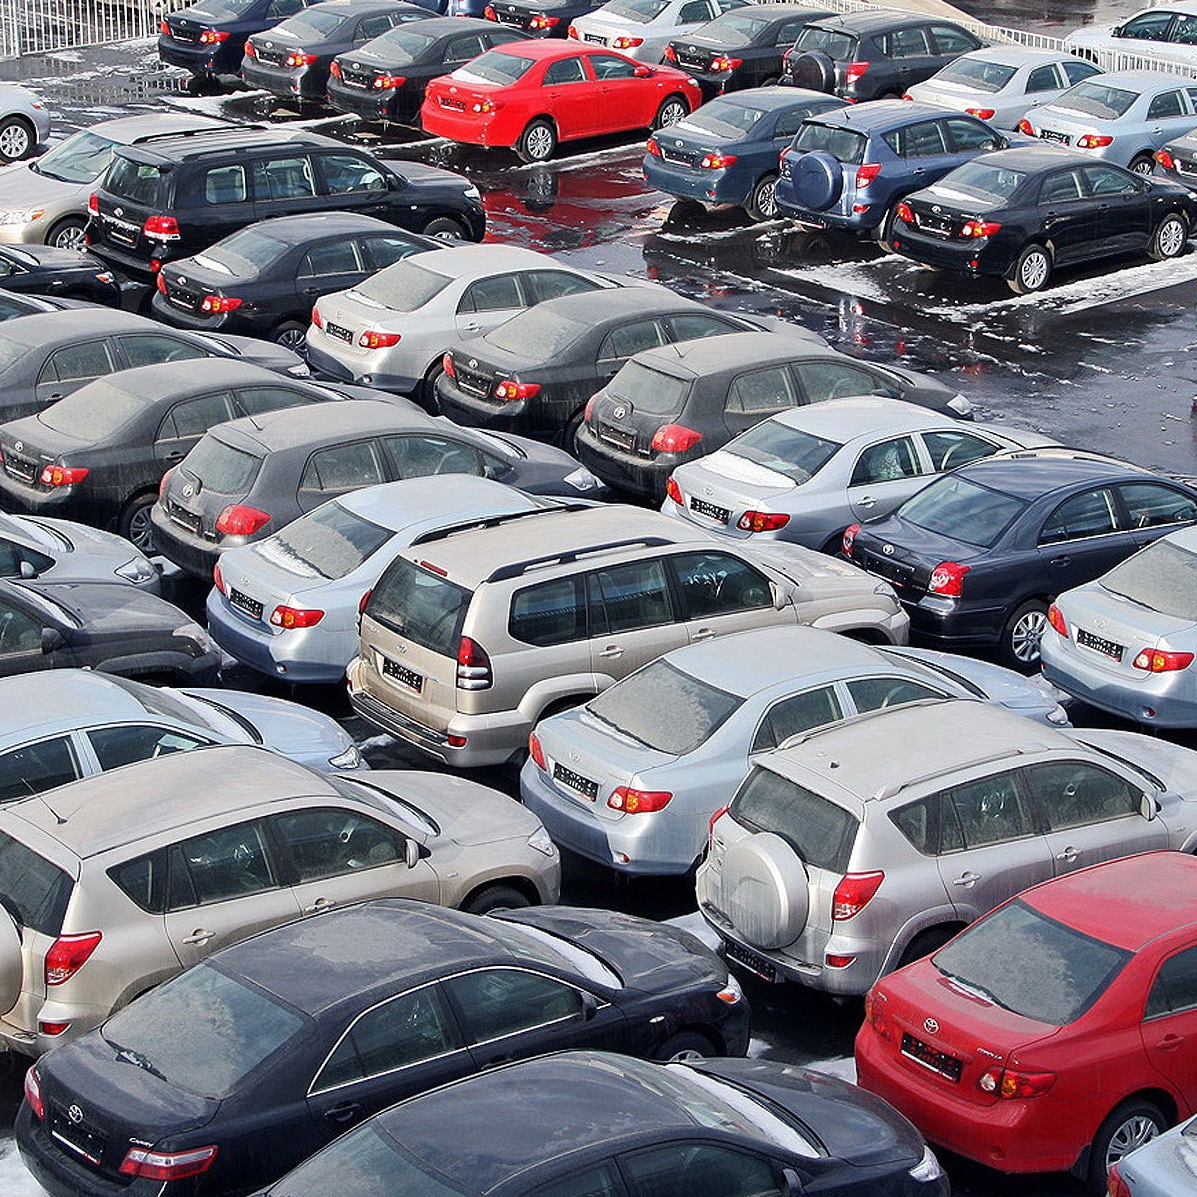Car: (15, 899, 751, 1197), (0, 745, 562, 1057), (693, 697, 1197, 1026), (347, 505, 908, 771), (520, 628, 1075, 879), (855, 852, 1197, 1197), (246, 1051, 950, 1197), (206, 475, 609, 685), (0, 360, 426, 554), (151, 400, 606, 579), (843, 451, 1197, 672), (570, 333, 974, 498), (433, 286, 833, 449), (659, 397, 1067, 555), (306, 242, 674, 412), (86, 129, 486, 281), (0, 670, 367, 810), (151, 212, 481, 354), (889, 146, 1197, 295), (776, 99, 1051, 248), (0, 308, 309, 424), (421, 38, 702, 164), (0, 112, 254, 250), (1040, 525, 1197, 733), (643, 87, 856, 223), (326, 16, 539, 128), (0, 580, 223, 686), (240, 0, 447, 104), (783, 10, 1014, 102), (1019, 69, 1197, 176), (902, 46, 1108, 132), (663, 5, 834, 98), (156, 0, 327, 81), (0, 511, 161, 594), (568, 0, 762, 62), (1062, 0, 1197, 81), (0, 246, 122, 308), (1105, 1116, 1197, 1197), (485, 0, 609, 39), (0, 83, 52, 164), (0, 290, 104, 323), (1153, 129, 1197, 197), (64, 0, 200, 15), (402, 0, 491, 19)
